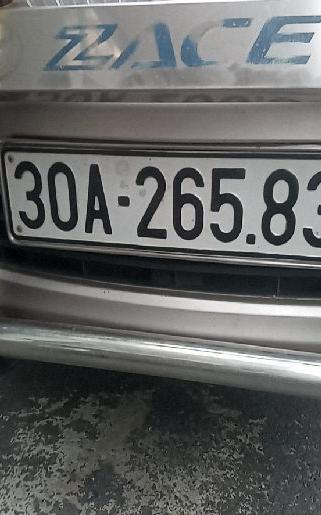Plate-iWeP: (4, 156, 321, 251)
